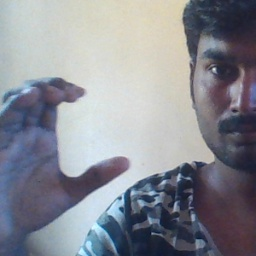C: (22, 72, 136, 203)
